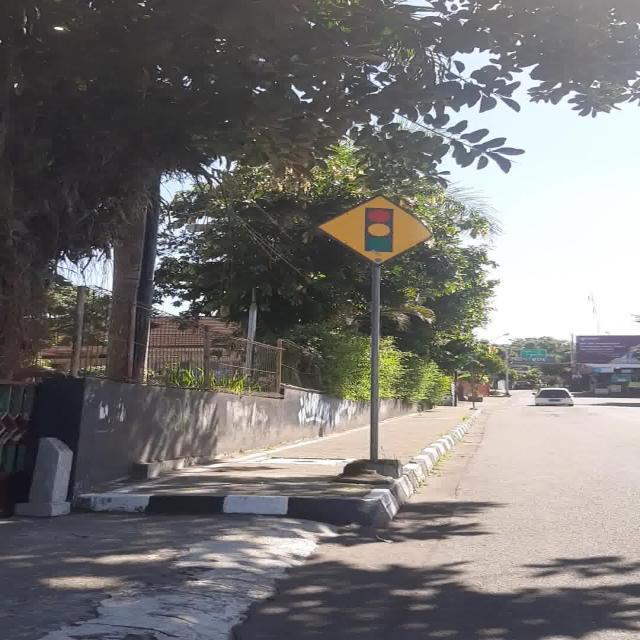Lampu Lalu Lintas: (315, 194, 433, 266)
